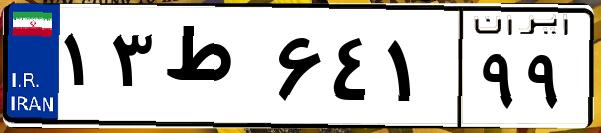1: (385, 28, 445, 110), (57, 26, 110, 100)
3: (110, 28, 158, 98)
4: (330, 28, 385, 110)
6: (270, 28, 330, 110)
9: (475, 38, 525, 113), (525, 38, 570, 115)
ط: (158, 20, 270, 120)
